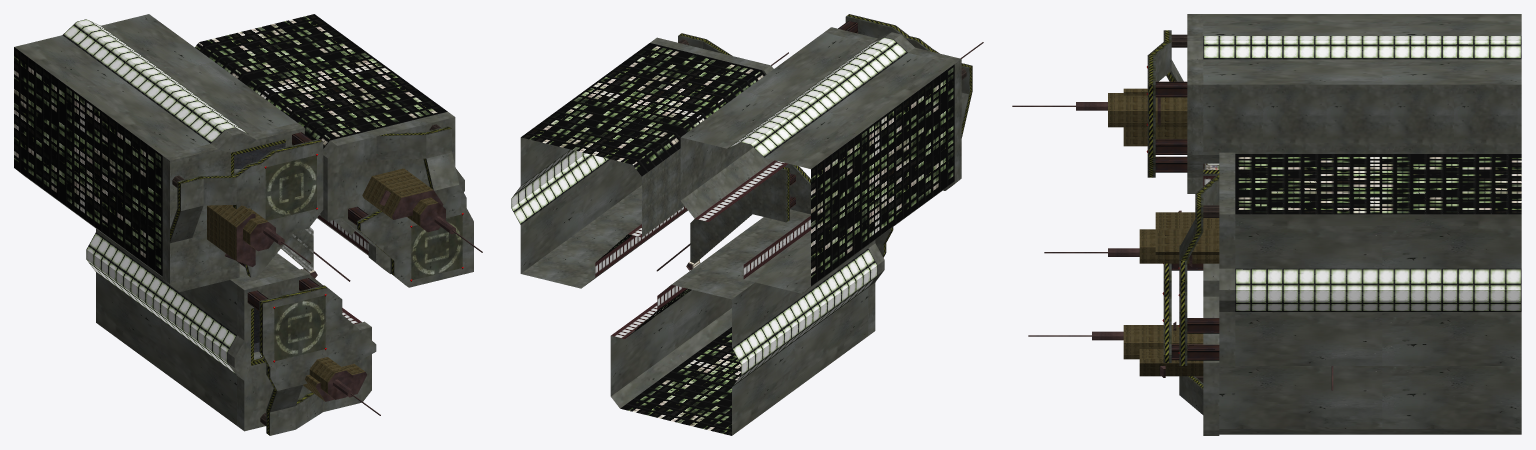
File: DM-Somnus.obj
3 renders of one model, left to right at view 1: azimuth 30°, elevation 25°; view 2: azimuth 150°, elevation 25°; view 3: azimuth 270°, elevation 25°, orthographic. The views are drawn at different scales.
Bounding box in the file's own units: 58.83 × 55.47 × 78.03.
Materials: 27 (27 with a texture image).
